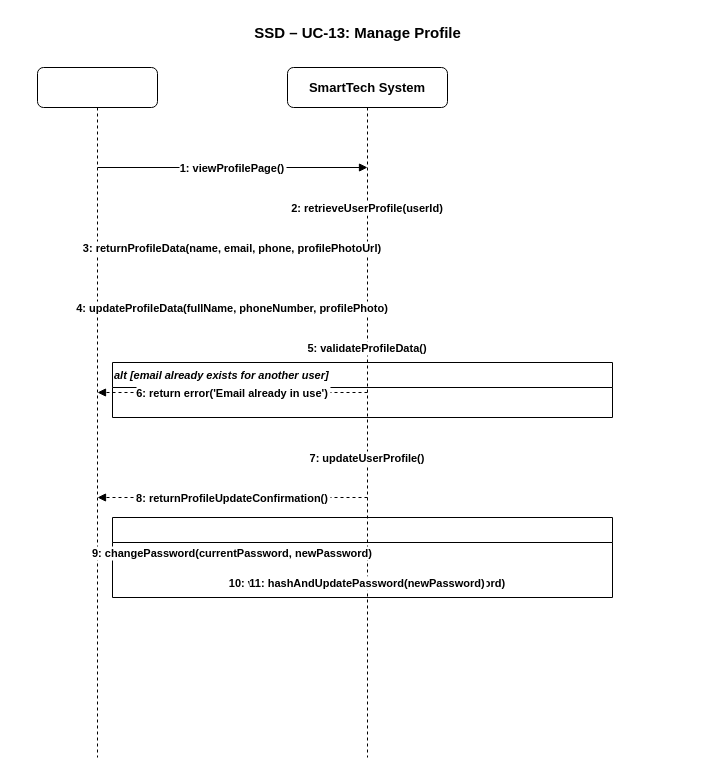
This 714x776 diagram has some shape labels left out. Each missing label, with the centre of its shape:
opt [Change Password]: the point at 362,557
User: the point at 97,87
